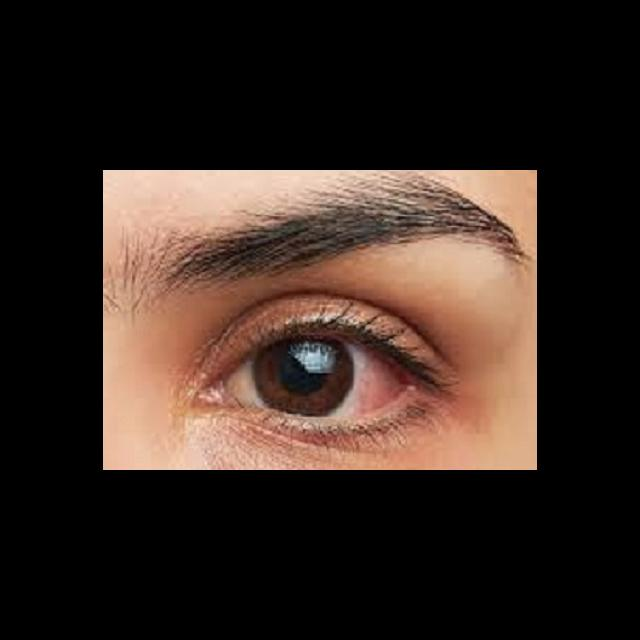eye: (225, 334, 408, 418)
iris: (255, 339, 354, 417)
